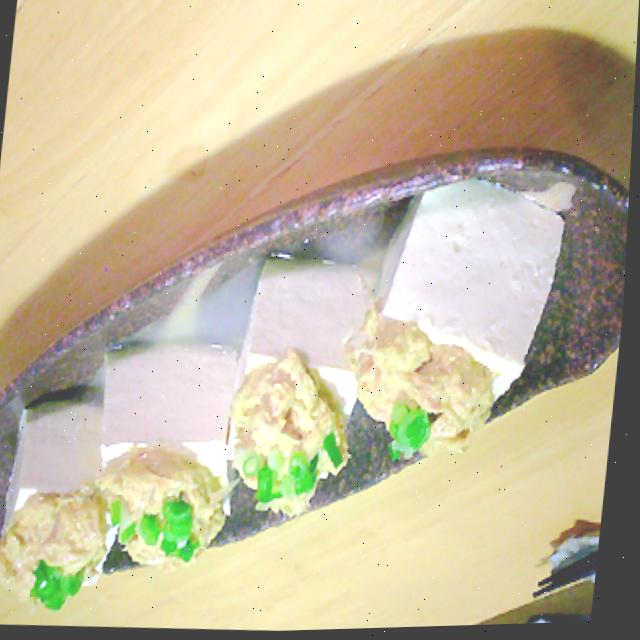豆腐料理: (0, 157, 574, 639)
